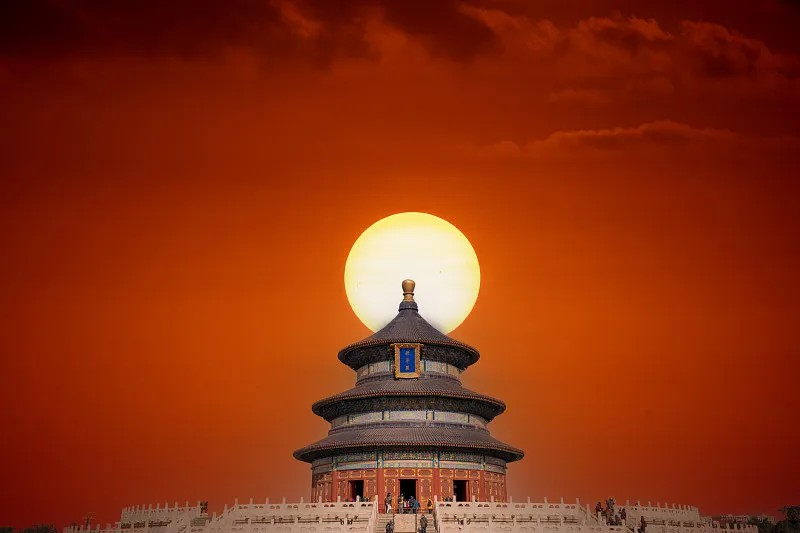Heaven: (291, 278, 525, 510)
